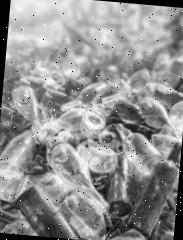glass: (122, 136, 182, 238), (40, 140, 114, 214), (11, 184, 88, 240), (110, 96, 159, 134)
